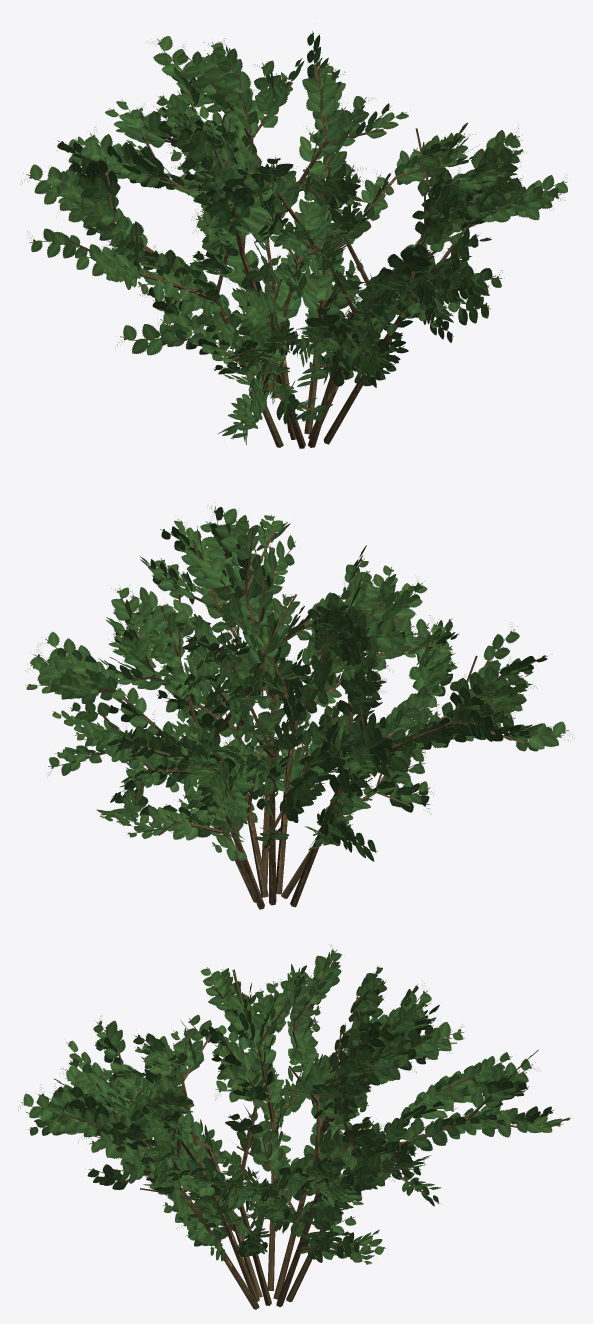
Rendered from alder_thicket_v01_LOD1.fbx.
3 views of the same model, one above another, from view 1: azimuth 30°, elevation 25°; view 2: azimuth 150°, elevation 25°; view 3: azimuth 270°, elevation 25° (orthographic). The views are drawn at different scales.
Parts seen in each view (by area): view 1: alder_thicket_v01_LOD1; view 2: alder_thicket_v01_LOD1; view 3: alder_thicket_v01_LOD1.
Part boxes in pixels (x1,y1,x2,y2): alder_thicket_v01_LOD1: (20, 31, 567, 448); alder_thicket_v01_LOD1: (25, 505, 574, 909); alder_thicket_v01_LOD1: (18, 944, 570, 1309).
Size of the model in its own units: 459 by 340 by 525.
Materials: 2 (2 with a texture image).
